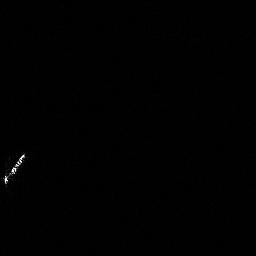ship: (1, 149, 32, 188)
